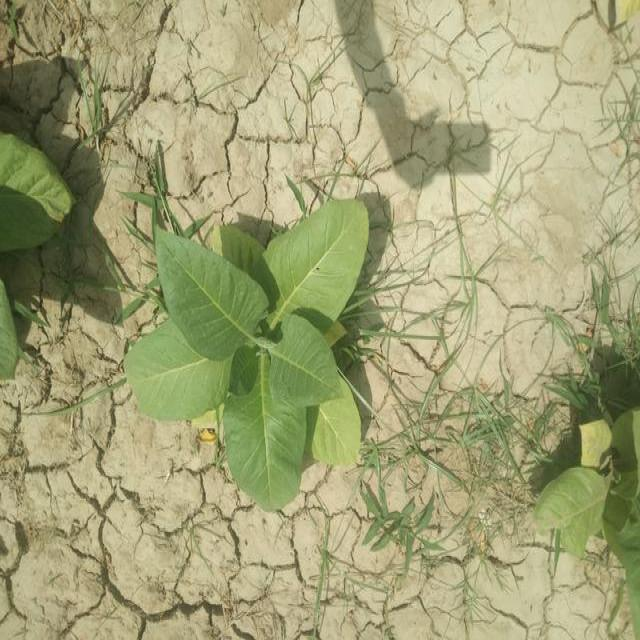crop: (120, 219, 362, 504), (0, 108, 74, 369), (552, 411, 640, 592)
